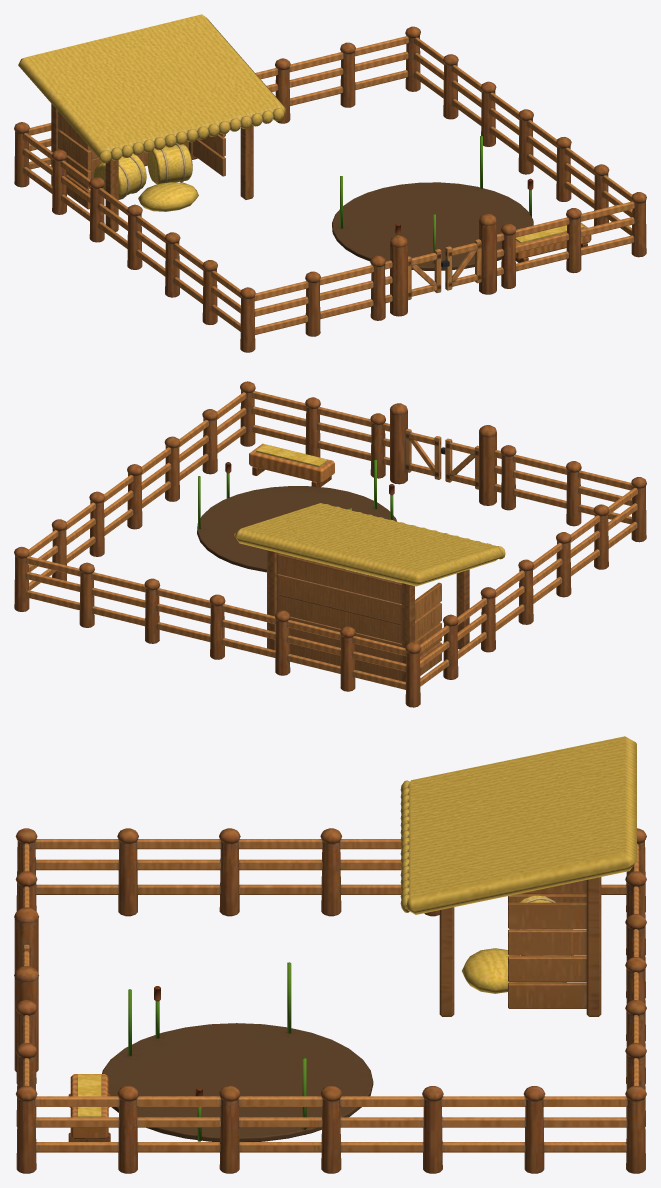
Rendered from buffalo_wallow.glb.
3 views of the same model, one above another, from view 1: azimuth 30°, elevation 25°; view 2: azimuth 150°, elevation 25°; view 3: azimuth 270°, elevation 25° (orthographic). The views are drawn at different scales.
Visible parts, largest first — view 1: buffalo_wallow; view 2: buffalo_wallow; view 3: buffalo_wallow.
Part boxes in pixels (bbox=[...]): buffalo_wallow: bbox=[14, 14, 646, 352]; buffalo_wallow: bbox=[14, 381, 646, 707]; buffalo_wallow: bbox=[14, 736, 646, 1173].
Size of the model in its own units: 3 by 0.9759 by 3.01.
Materials: 1 (1 with a texture image).
